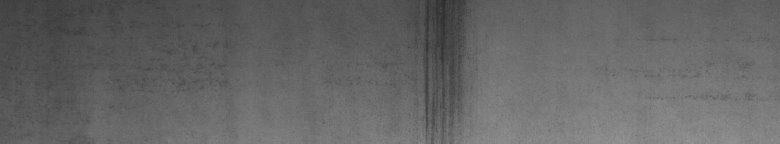ka: (382, 4, 460, 136)
